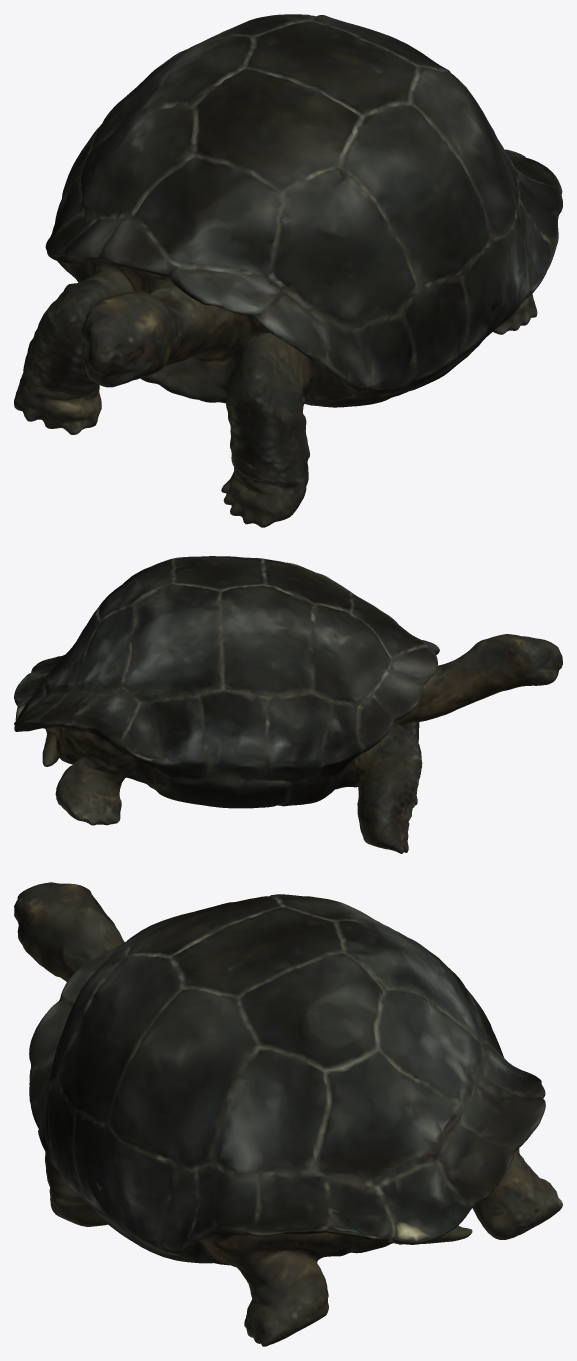
Rendered from galapagos-giant-tortoise.glb.
3 renders of one model, top to bottom at view 1: azimuth 30°, elevation 25°; view 2: azimuth 150°, elevation 25°; view 3: azimuth 270°, elevation 25°, orthographic. The views are drawn at different scales.
Visible parts, largest first — view 1: tortoise tex4; view 2: tortoise tex4; view 3: tortoise tex4.
Boxes of the visible parts, x1=… form: tortoise tex4: x1=14, y1=14, x2=562, y2=527; tortoise tex4: x1=14, y1=556, x2=562, y2=853; tortoise tex4: x1=14, y1=882, x2=562, y2=1346.
Size of the model in its own units: 1.7 by 0.9938 by 1.39.
